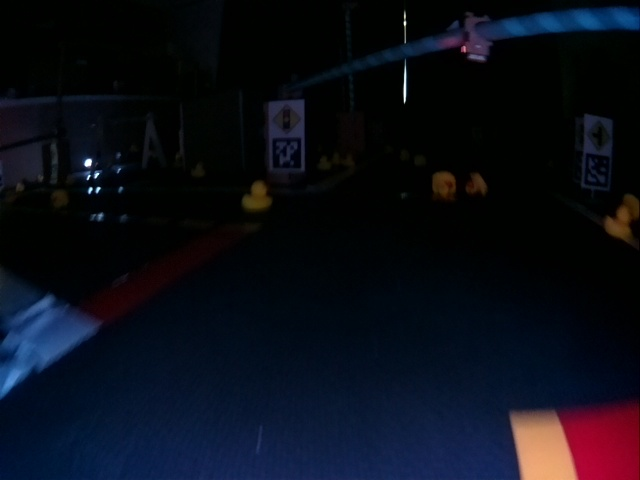Duckie: (242, 180, 271, 210), (604, 206, 631, 237), (432, 171, 456, 199), (466, 170, 488, 197), (625, 193, 639, 223)
Intersection sign: (587, 120, 610, 149)
QR code: (272, 138, 301, 170), (585, 154, 611, 187)
Signal sign: (272, 104, 301, 133)
Traffic light: (461, 11, 494, 63)
